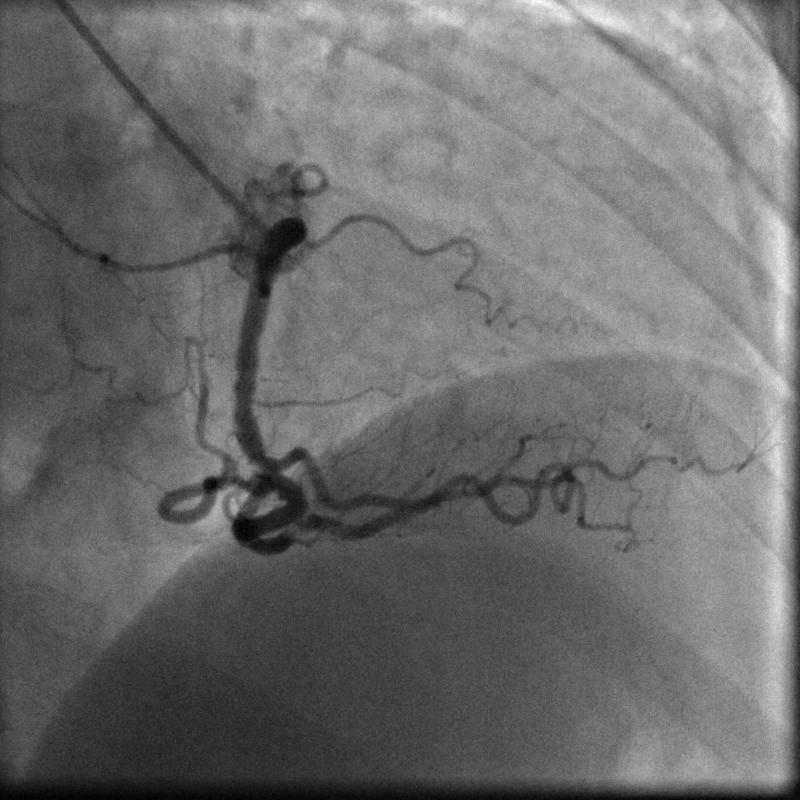Stenosis: (244, 448, 298, 479)
